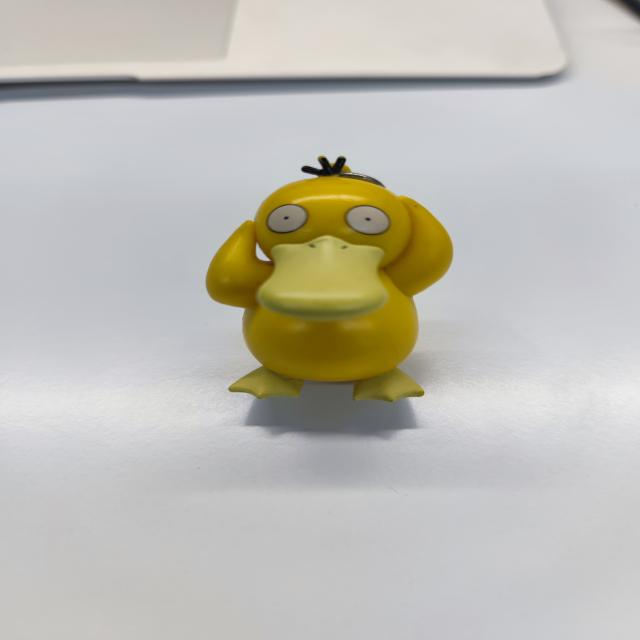Duck: (207, 148, 453, 406)
